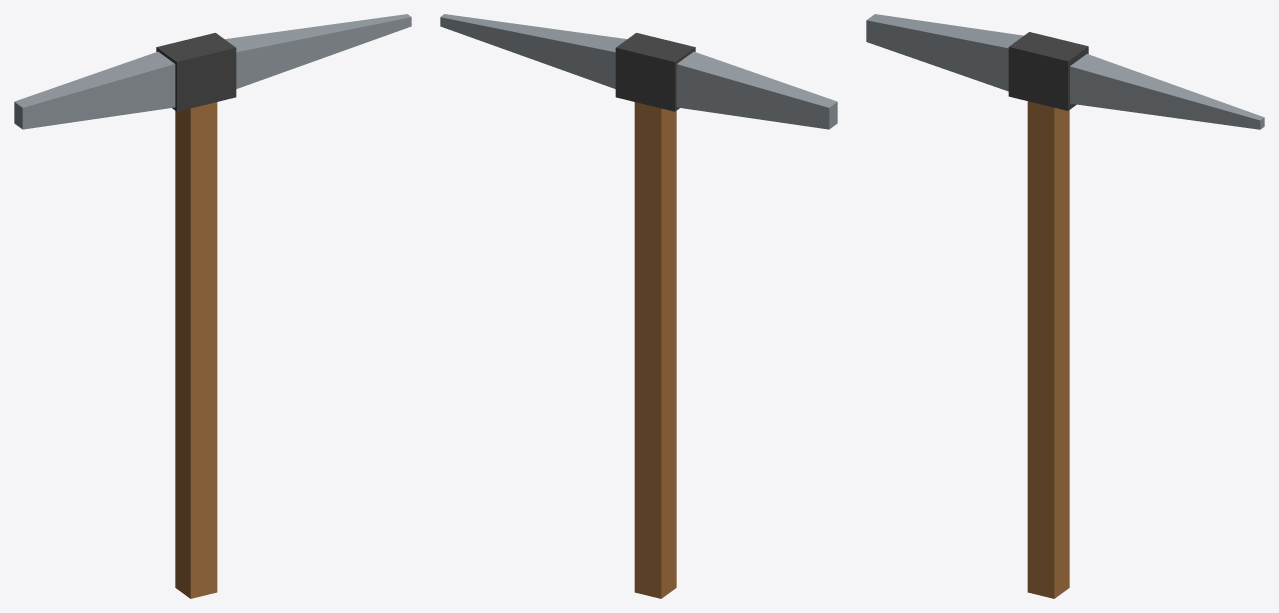
Rendered from Tool_Pickaxe.fbx.
The picture shows the model from 3 angles, left to right: view 1: azimuth 30°, elevation 25°; view 2: azimuth 150°, elevation 25°; view 3: azimuth 330°, elevation 25°; orthographic projection.
Parts seen in each view (by area): view 1: Tool_Pickaxe; view 2: Tool_Pickaxe; view 3: Tool_Pickaxe.
Boxes of the visible parts, <box> form: Tool_Pickaxe: <box>14,14,411,598</box>; Tool_Pickaxe: <box>440,14,837,598</box>; Tool_Pickaxe: <box>866,14,1264,598</box>.
Bounding box in the file's own units: 0.66 × 0.875 × 0.06.
